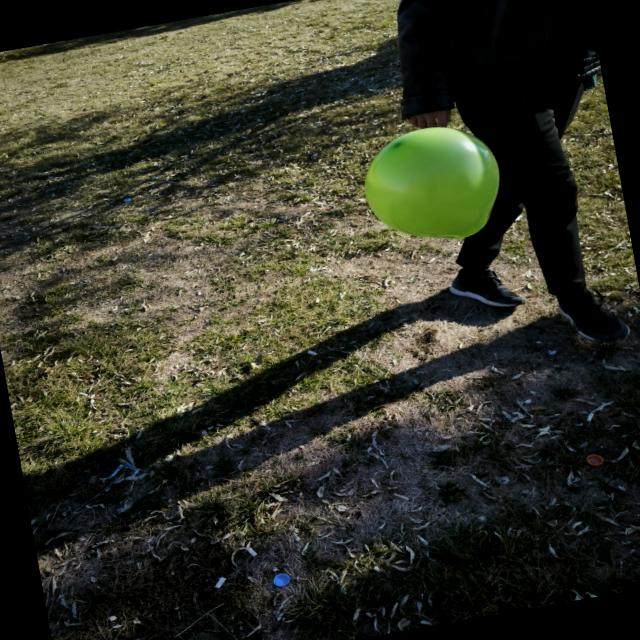balloon: (364, 127, 499, 237)
